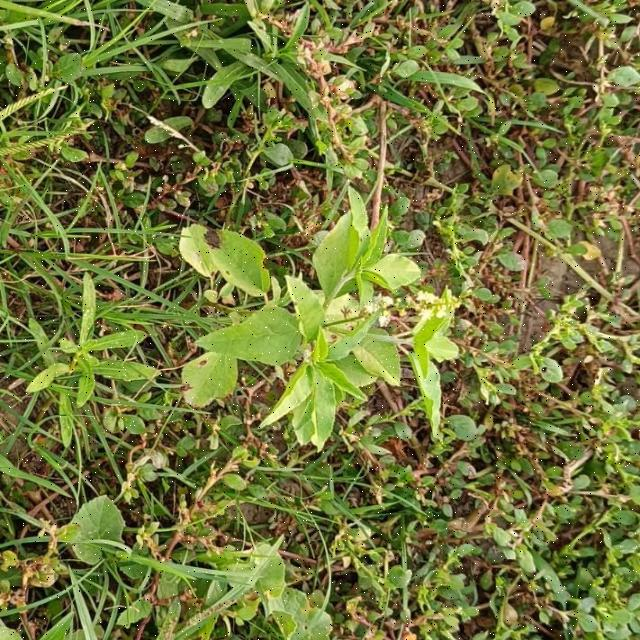weed: (178, 191, 459, 451), (187, 545, 330, 640), (58, 499, 155, 581), (119, 566, 200, 631)
